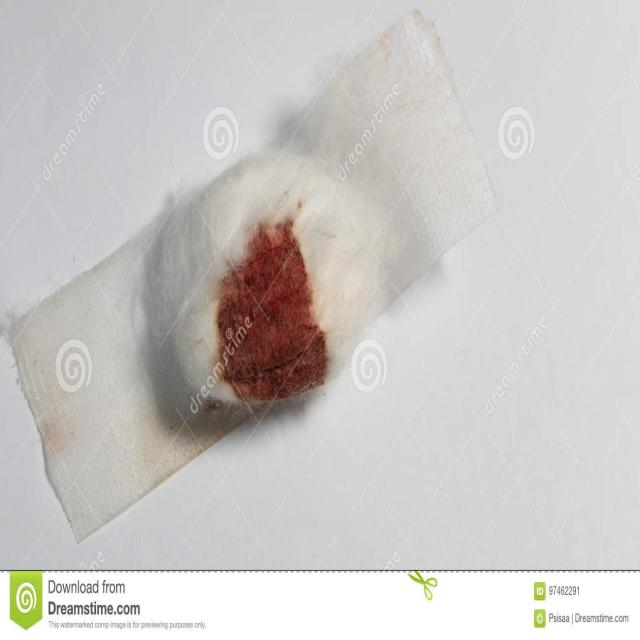B3: (142, 179, 366, 427)
